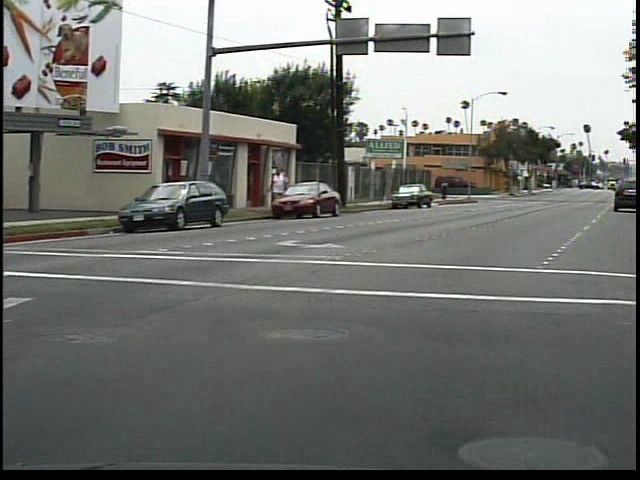person: (273, 160, 298, 214), (444, 178, 457, 204)
